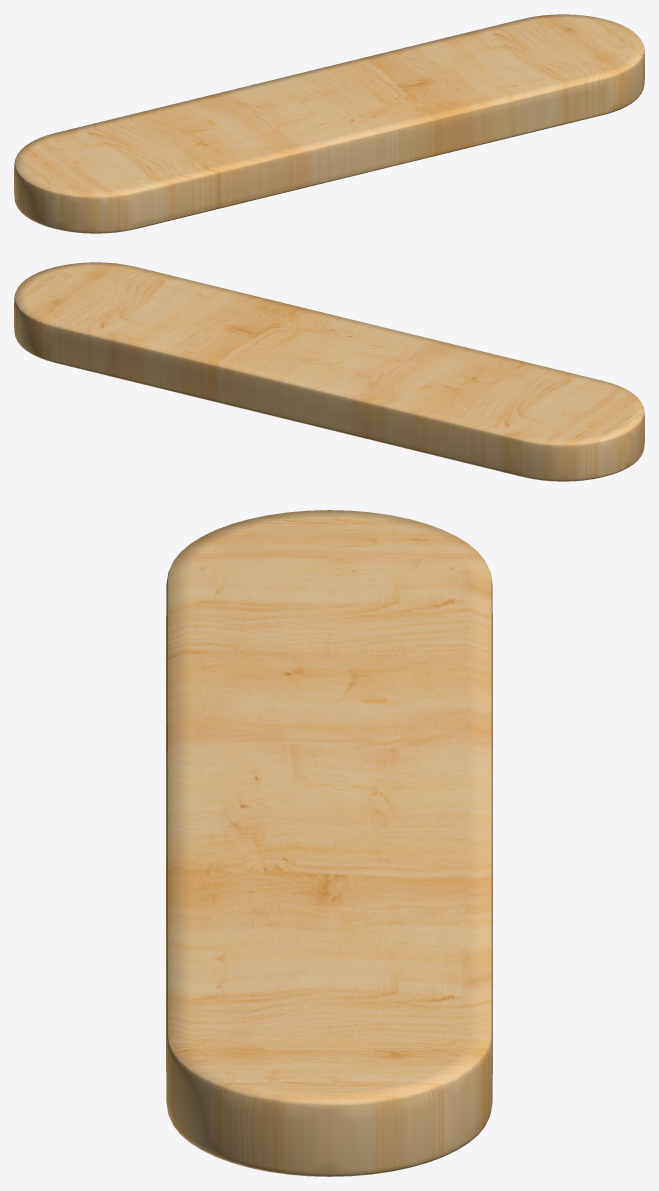
File: Lobby.fbx
The picture shows the model from 3 angles, top to bottom: view 1: azimuth 30°, elevation 25°; view 2: azimuth 150°, elevation 25°; view 3: azimuth 270°, elevation 25°; orthographic projection. The views are drawn at different scales.
Visible parts, largest first — view 1: Lobby; view 2: Lobby; view 3: Lobby.
Boxes of the visible parts, x1,y1,x2,y2 form: Lobby: (14, 14, 644, 233); Lobby: (14, 262, 644, 481); Lobby: (166, 510, 492, 1176).
Size of the model in its own units: 15.63 by 3.63 by 0.9514.
1 material, 1 textured.
